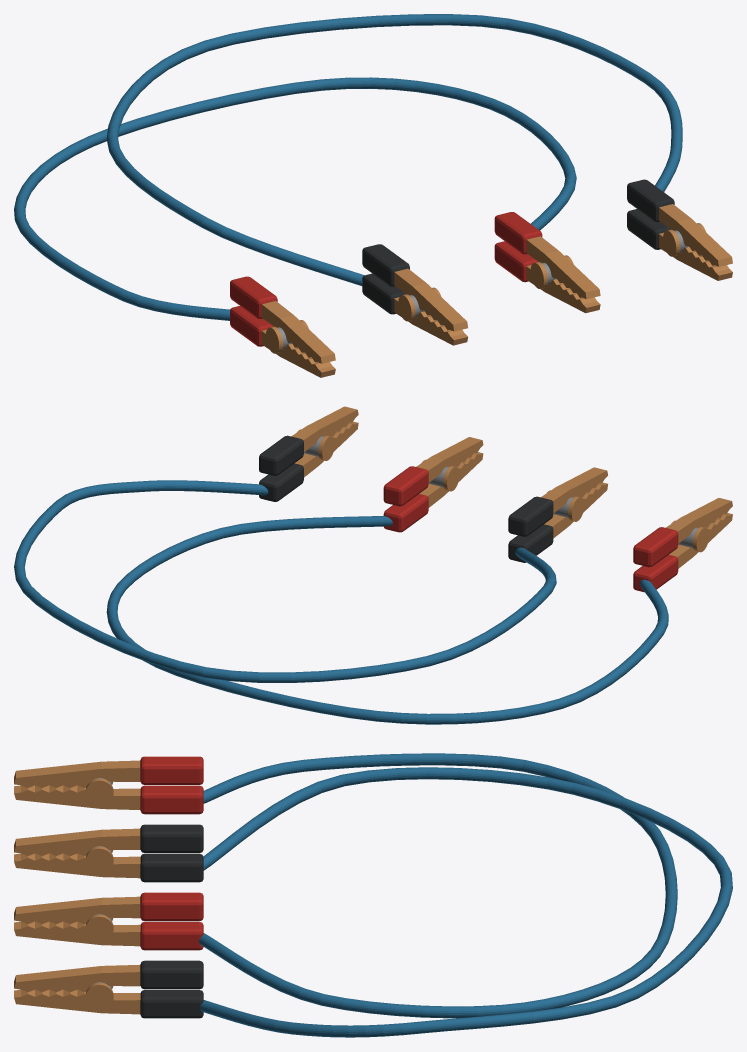
Rendered from full.fbx.
The picture shows the model from 3 angles, top to bottom: view 1: azimuth 30°, elevation 25°; view 2: azimuth 150°, elevation 25°; view 3: azimuth 270°, elevation 25°; orthographic projection. The views are drawn at different scales.
Parts seen in each view (by area): view 1: Continuous insulated lead 1, Continuous insulated lead 0, Serrated clamp member 1 1, Serrated clamp member 2 1, Serrated clamp member 3 1, Serrated clamp member 0 1, Insulated handle sleeve 1 1, Insulated handle sleeve 2 1, Insulated handle sleeve 3 1, Insulated handle sleeve 0 1, Insulated handle sleeve 1 0, Insulated handle sleeve 2 0 (+6 smaller); view 2: Continuous insulated lead 1, Continuous insulated lead 0, Insulated handle sleeve 1 1, Insulated handle sleeve 2 1, Insulated handle sleeve 0 1, Insulated handle sleeve 3 1, Serrated clamp member 1 1, Serrated clamp member 2 1, Serrated clamp member 0 1, Serrated clamp member 3 1, Insulated handle sleeve 2 0, Insulated handle sleeve 3 0 (+6 smaller); view 3: Continuous insulated lead 1, Continuous insulated lead 0, Serrated clamp member 3 1, Serrated clamp member 2 1, Serrated clamp member 0 1, Serrated clamp member 1 1, Serrated clamp member 0 0, Serrated clamp member 1 0, Serrated clamp member 2 0, Serrated clamp member 3 0, Insulated handle sleeve 0 0, Insulated handle sleeve 1 0 (+10 smaller).
Boxes of the visible parts, x1=… form: Continuous insulated lead 1: x1=106, y1=14, x2=682, y2=285; Continuous insulated lead 0: x1=14, y1=77, x2=576, y2=320; Serrated clamp member 1 1: x1=394, y1=268, x2=467, y2=331; Serrated clamp member 2 1: x1=526, y1=236, x2=600, y2=299; Serrated clamp member 3 1: x1=659, y1=204, x2=732, y2=266; Serrated clamp member 0 1: x1=261, y1=301, x2=335, y2=363; Insulated handle sleeve 1 1: x1=362, y1=244, x2=409, y2=286; Insulated handle sleeve 2 1: x1=494, y1=212, x2=542, y2=254; Insulated handle sleeve 3 1: x1=627, y1=179, x2=674, y2=222; Insulated handle sleeve 0 1: x1=230, y1=276, x2=277, y2=318; Insulated handle sleeve 1 0: x1=362, y1=273, x2=405, y2=314; Insulated handle sleeve 2 0: x1=494, y1=241, x2=538, y2=282; Continuous insulated lead 1: x1=14, y1=480, x2=556, y2=682; Continuous insulated lead 0: x1=106, y1=515, x2=668, y2=724; Insulated handle sleeve 1 1: x1=508, y1=496, x2=553, y2=536; Insulated handle sleeve 2 1: x1=383, y1=466, x2=428, y2=506; Insulated handle sleeve 0 1: x1=633, y1=527, x2=678, y2=567; Insulated handle sleeve 3 1: x1=259, y1=435, x2=303, y2=475; Serrated clamp member 1 1: x1=541, y1=467, x2=607, y2=513; Serrated clamp member 2 1: x1=416, y1=437, x2=483, y2=482; Serrated clamp member 0 1: x1=665, y1=498, x2=732, y2=543; Serrated clamp member 3 1: x1=291, y1=406, x2=358, y2=452; Insulated handle sleeve 2 0: x1=383, y1=494, x2=428, y2=532; Insulated handle sleeve 3 0: x1=259, y1=463, x2=303, y2=501; Continuous insulated lead 1: x1=200, y1=767, x2=732, y2=1037; Continuous insulated lead 0: x1=199, y1=753, x2=677, y2=1018; Serrated clamp member 3 1: x1=14, y1=965, x2=140, y2=992; Serrated clamp member 2 1: x1=14, y1=896, x2=140, y2=923; Serrated clamp member 0 1: x1=14, y1=760, x2=140, y2=787; Serrated clamp member 1 1: x1=14, y1=828, x2=140, y2=855; Serrated clamp member 0 0: x1=14, y1=785, x2=140, y2=809; Serrated clamp member 1 0: x1=14, y1=853, x2=140, y2=878; Serrated clamp member 2 0: x1=14, y1=921, x2=140, y2=946; Serrated clamp member 3 0: x1=14, y1=989, x2=140, y2=1014; Insulated handle sleeve 0 0: x1=140, y1=785, x2=203, y2=814; Insulated handle sleeve 1 0: x1=140, y1=853, x2=203, y2=882.
Bounding box in the file's own units: 72.84 × 6.04 × 71.4.
